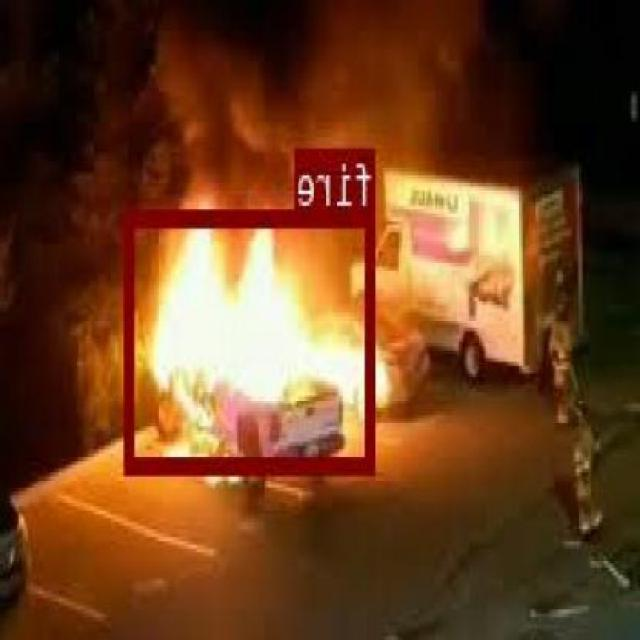Fire: (127, 206, 376, 472)
